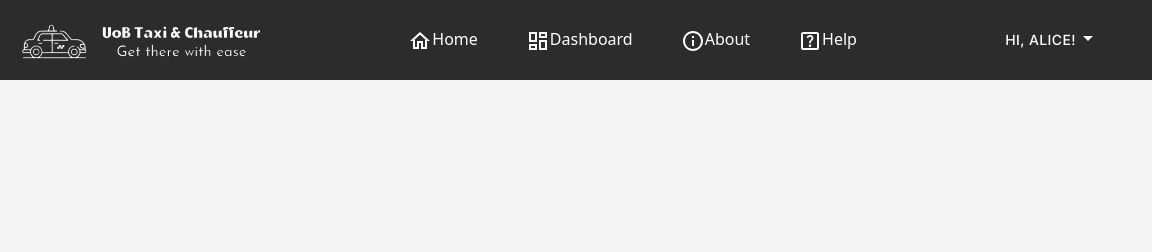
Test: Navbar – desktop dropdown: Profile item › clicking Profile closes the dropdown menu
Click the button "Hi, Alice!": coordinates (1053, 40) [997, 20, 1108, 60]
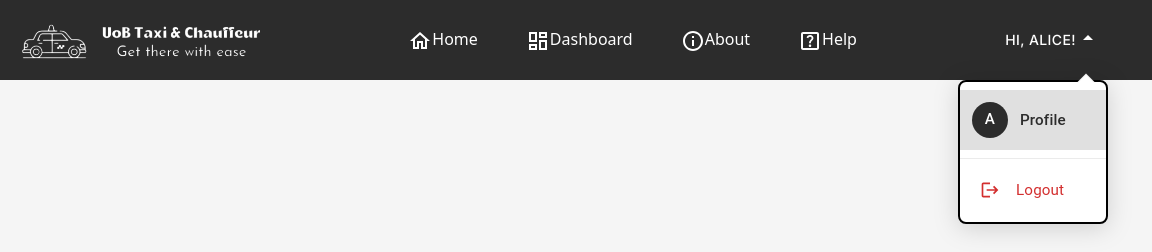
Now the menu item "A Profile" is shown
Click the menu item "A Profile": coordinates (1033, 120) [960, 90, 1106, 150]
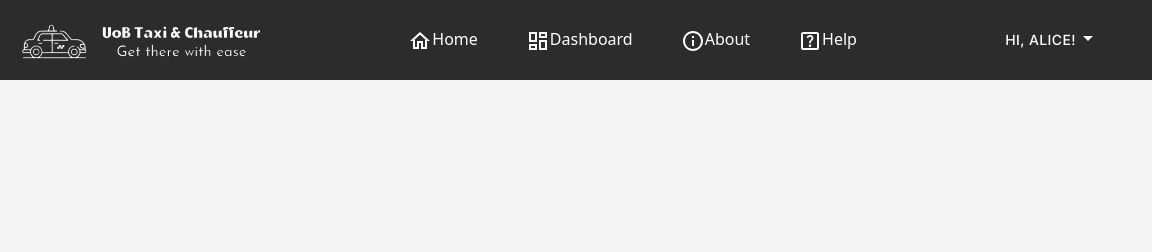
Now the menu is gone
